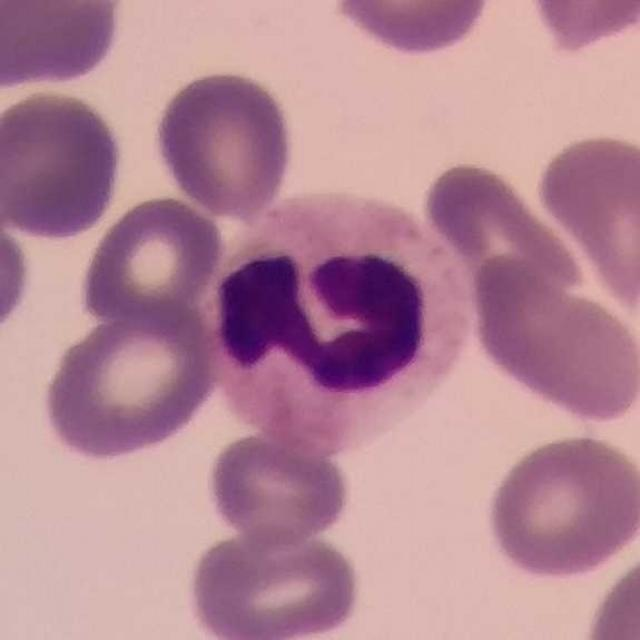Neutrophil: (200, 180, 478, 441)
RBC: (201, 180, 480, 448), (36, 298, 222, 464), (466, 265, 640, 431), (418, 156, 586, 310), (482, 430, 639, 582), (149, 64, 300, 220), (184, 520, 366, 640), (76, 191, 226, 333), (533, 127, 640, 316), (0, 85, 128, 242), (202, 428, 355, 551), (0, 0, 129, 91), (325, 0, 498, 59), (521, 1, 640, 55), (580, 541, 640, 640), (0, 192, 36, 351)
